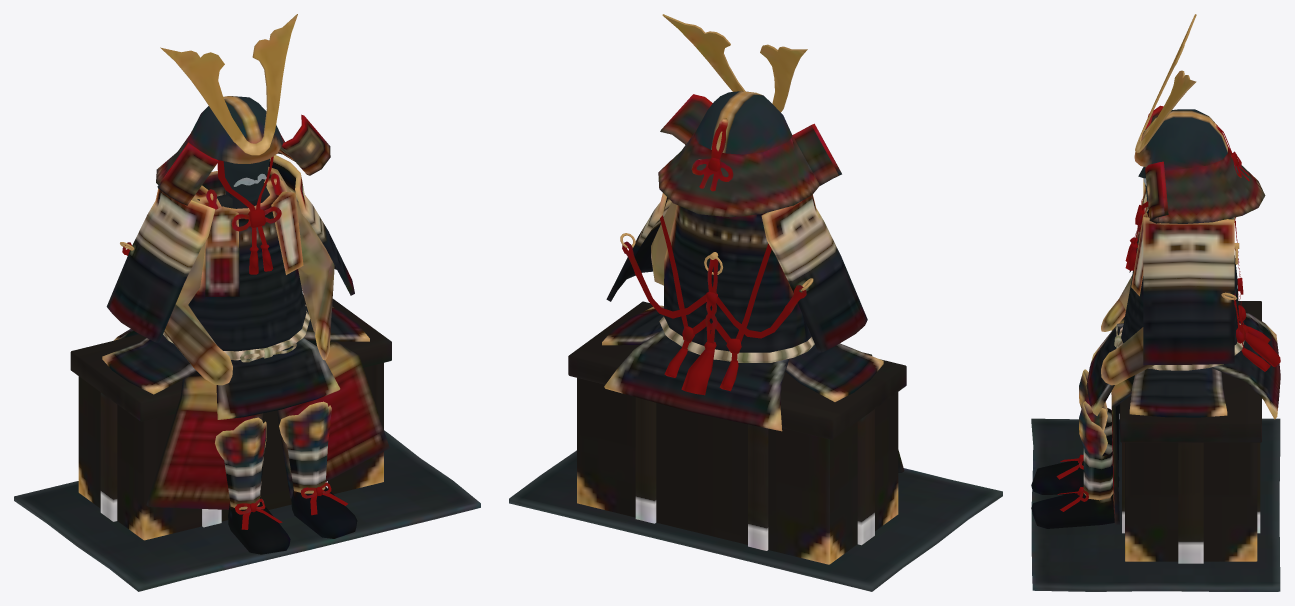
3 views of the same model, side by side, from view 1: azimuth 30°, elevation 25°; view 2: azimuth 150°, elevation 25°; view 3: azimuth 270°, elevation 25° (orthographic). The views are drawn at different scales.
Size of the model in its own units: 15.97 by 20.28 by 9.98.
1 material, 1 textured.
